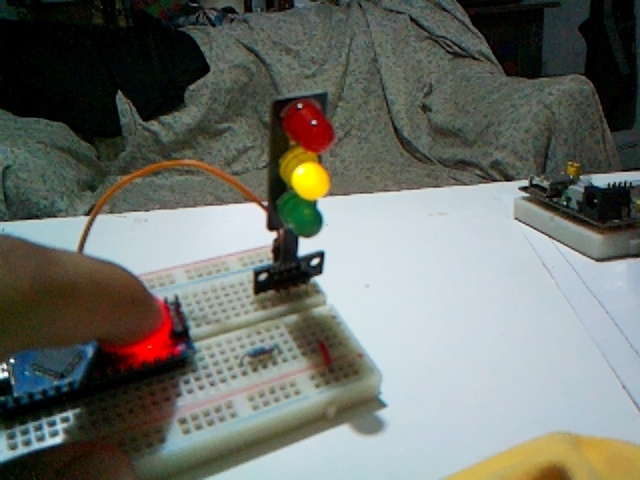traffic_light_yellow: (263, 94, 334, 290)
